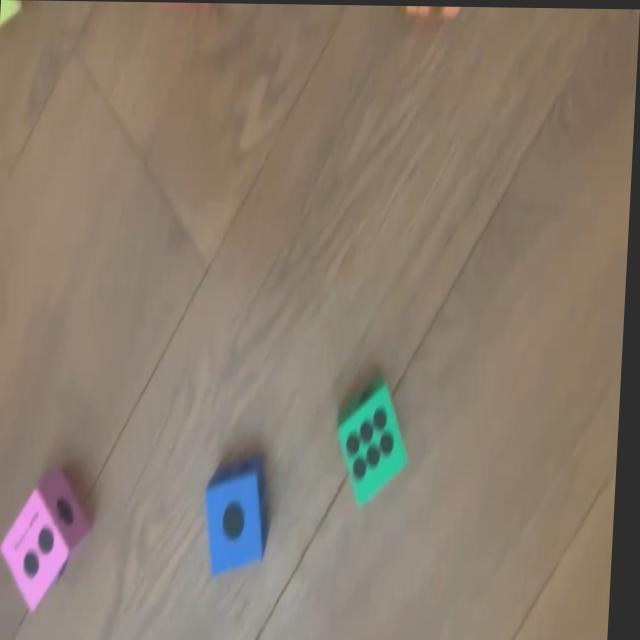blue_block: (207, 457, 274, 576)
